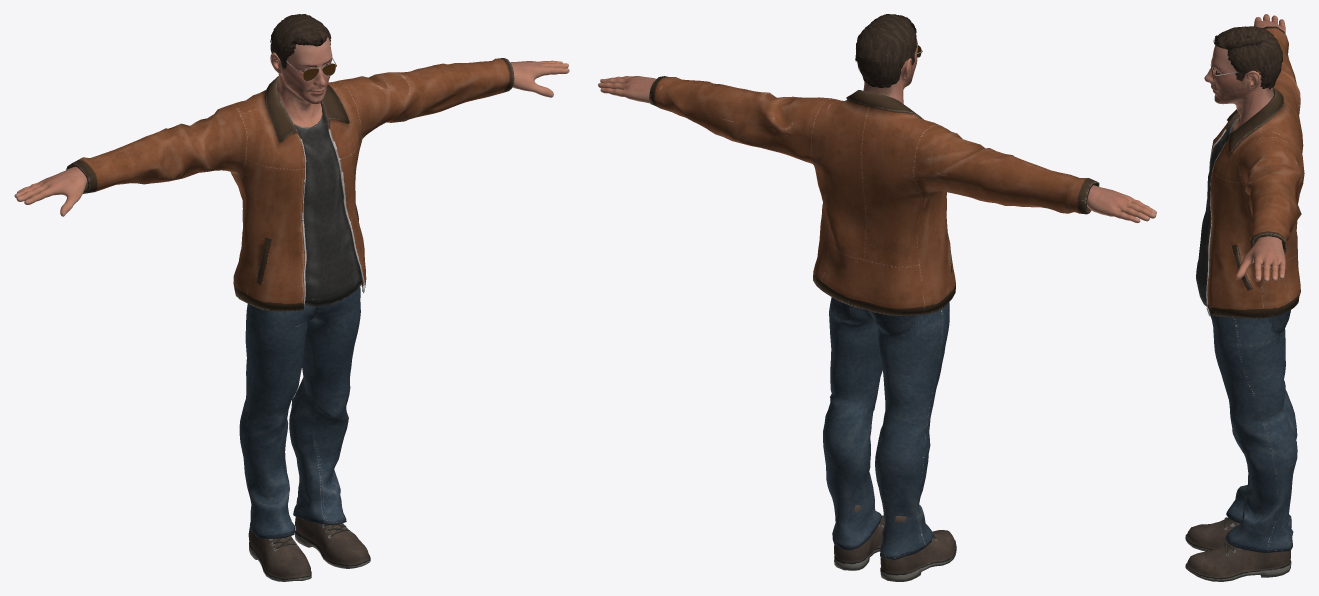
Rendered from JonDoe.obj.
3 views of the same model, side by side, from view 1: azimuth 30°, elevation 25°; view 2: azimuth 150°, elevation 25°; view 3: azimuth 270°, elevation 25° (orthographic). The views are drawn at different scales.
Parts seen in each view (by area): view 1: Tops Mesh, Bottoms Mesh, Body Mesh, Shoes Mesh, Hair Mesh; view 2: Tops Mesh, Bottoms Mesh, Body Mesh, Hair Mesh, Shoes Mesh; view 3: Tops Mesh, Bottoms Mesh, Body Mesh, Shoes Mesh, Hair Mesh.
Part boxes in pixels (<box>): Tops Mesh: <box>66,58,514,311</box>; Bottoms Mesh: <box>239,286,360,538</box>; Body Mesh: <box>14,37,569,216</box>; Shoes Mesh: <box>248,475,370,581</box>; Hair Mesh: <box>270,14,331,68</box>; Tops Mesh: <box>649,76,1099,315</box>; Bottoms Mesh: <box>823,297,949,559</box>; Body Mesh: <box>598,38,1156,223</box>; Hair Mesh: <box>855,14,916,87</box>; Shoes Mesh: <box>834,504,956,581</box>; Tops Mesh: <box>1196,26,1304,318</box>; Bottoms Mesh: <box>1211,310,1297,553</box>; Body Mesh: <box>1204,14,1285,282</box>; Shoes Mesh: <box>1185,517,1291,581</box>; Hair Mesh: <box>1213,26,1282,89</box>.
Bounding box in the file's own units: 14.44 × 13.44 × 2.74.
Materials: 8 (8 with a texture image).
